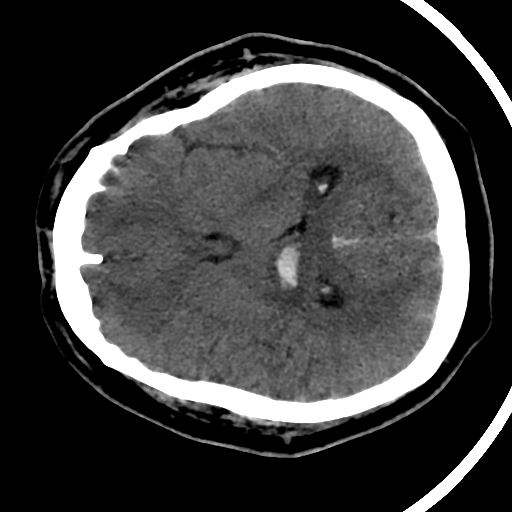a: (260, 232, 312, 313)
